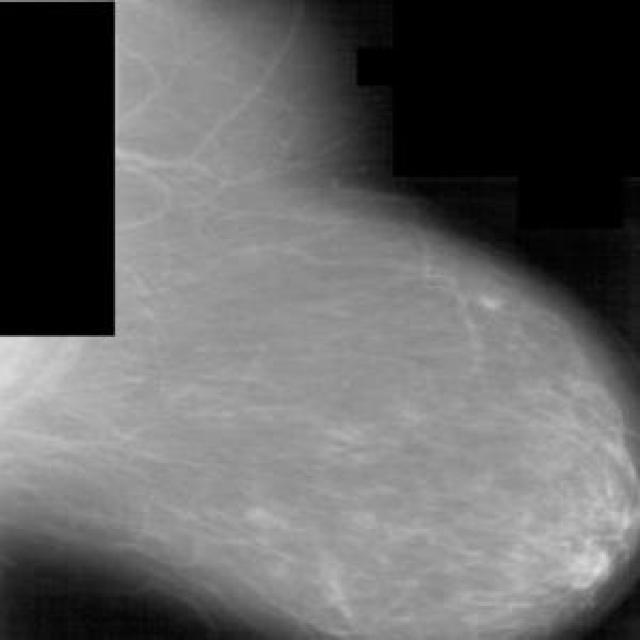tumor: (548, 424, 640, 602)
